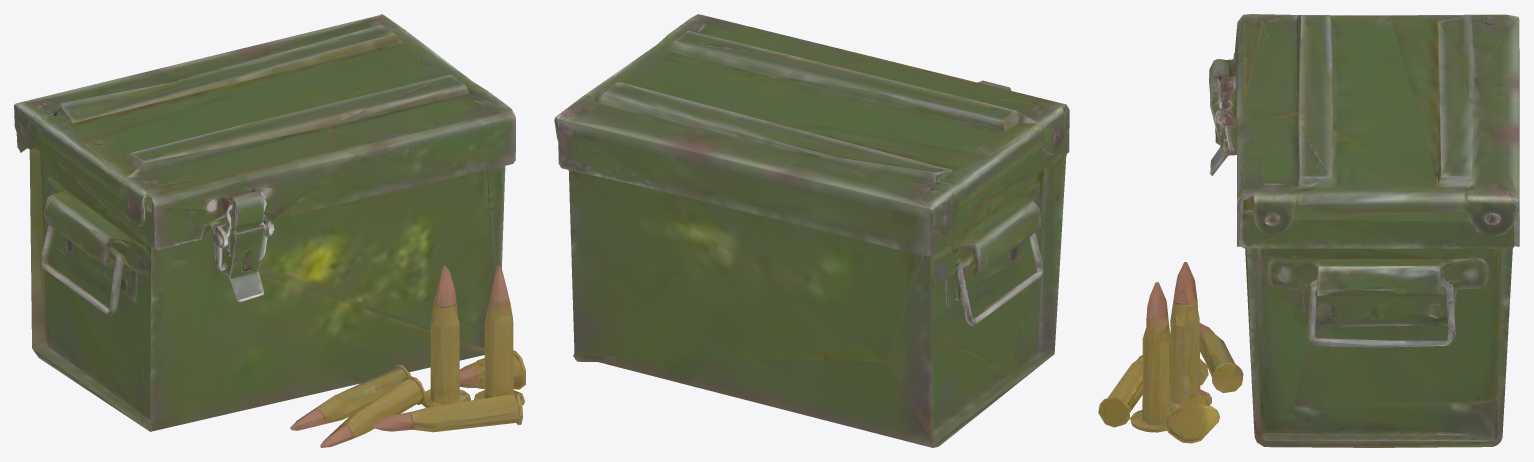
Rendered from ammo_box.glb.
The picture shows the model from 3 angles, left to right: view 1: azimuth 30°, elevation 25°; view 2: azimuth 150°, elevation 25°; view 3: azimuth 270°, elevation 25°; orthographic projection. The views are drawn at different scales.
Parts seen in each view (by area): view 1: Mesh_0; view 2: Mesh_0; view 3: Mesh_0.
Part boxes in pixels (<box>): Mesh_0: <box>14,14,525,447</box>; Mesh_0: <box>554,14,1069,447</box>; Mesh_0: <box>1098,14,1519,447</box>.
Bounding box in the file's own units: 1.89 × 1.23 × 1.74.
1 material, 1 textured.
